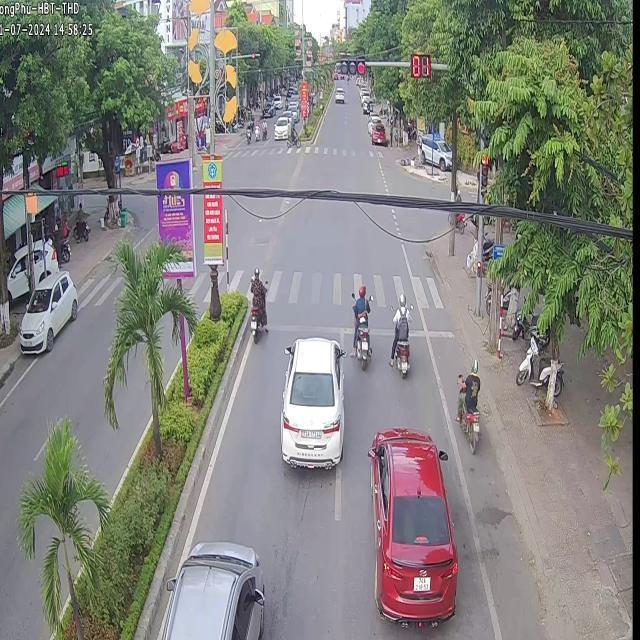car: (367, 427, 457, 621), (160, 540, 263, 638), (279, 336, 344, 467), (17, 269, 77, 351)
motobike: (454, 358, 478, 451), (388, 294, 410, 374), (353, 296, 369, 367), (248, 305, 260, 340)
red_light: (410, 52, 429, 78), (338, 57, 365, 72), (478, 153, 488, 193)
stop_line: (267, 321, 352, 332), (368, 322, 392, 337)
